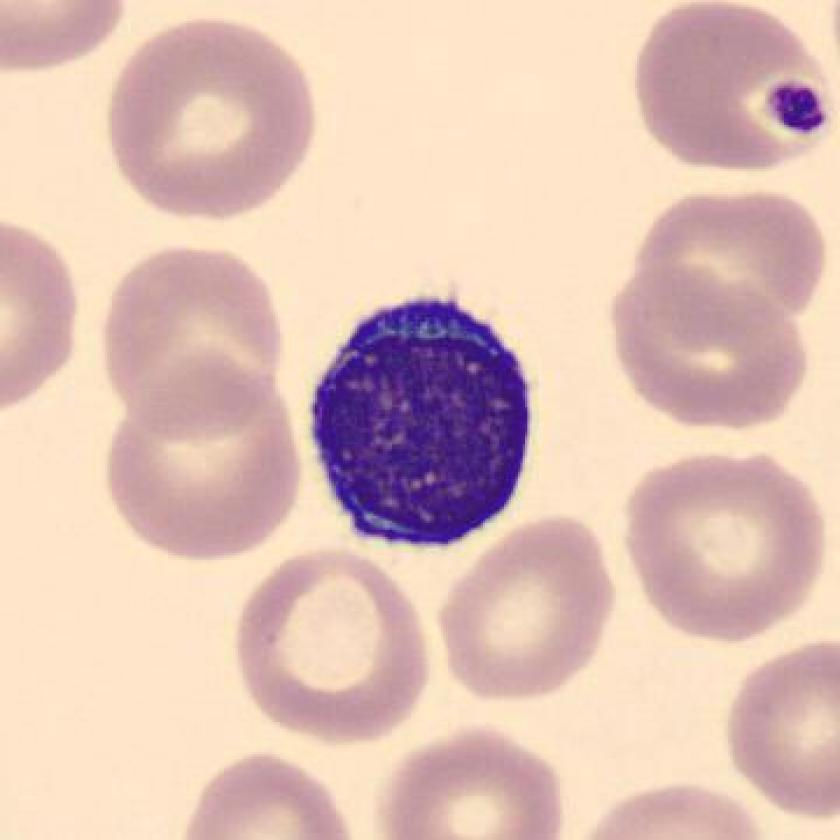lymphocyte: (295, 279, 547, 568)
